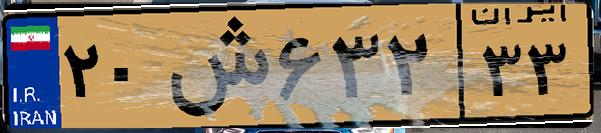0: (110, 28, 158, 98)
2: (385, 28, 445, 110), (57, 26, 110, 100)
3: (330, 28, 385, 110), (475, 38, 525, 113), (525, 38, 570, 115)
6: (270, 28, 330, 110)
ش: (158, 12, 270, 120)
